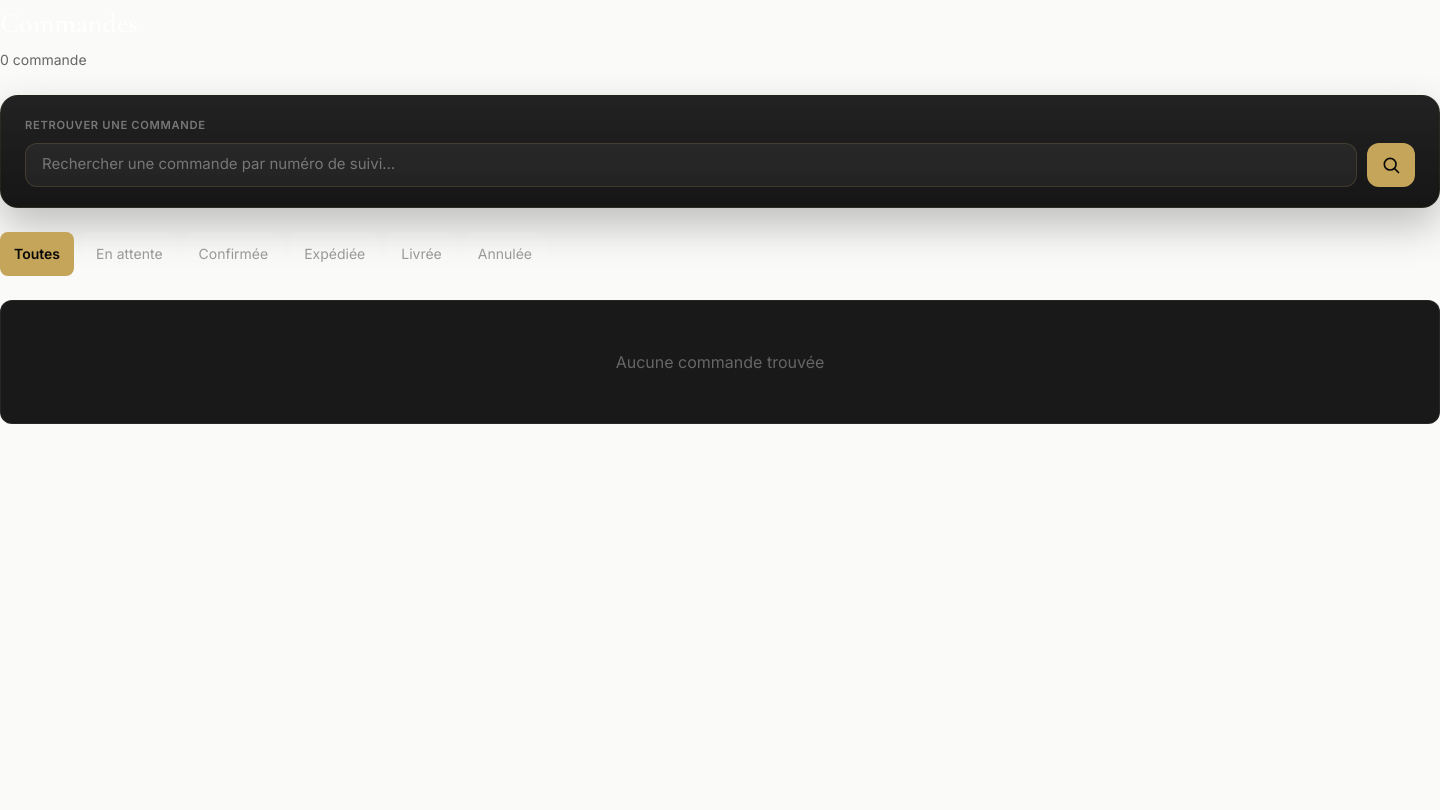
Test: Commandes — commande ouverte depuis la recherche (?ref=) › propose la recherche par numéro de suivi sur l'écran Commandes et ouvre la fiche avec « Voir la commande »
The image size is (1440, 810).
In the search field with placeholder "Rechercher une commande par numéro de suivi…": (691, 165) [25,143,1357,187], type "VIP-3F2A9C1B"
Then press Enter
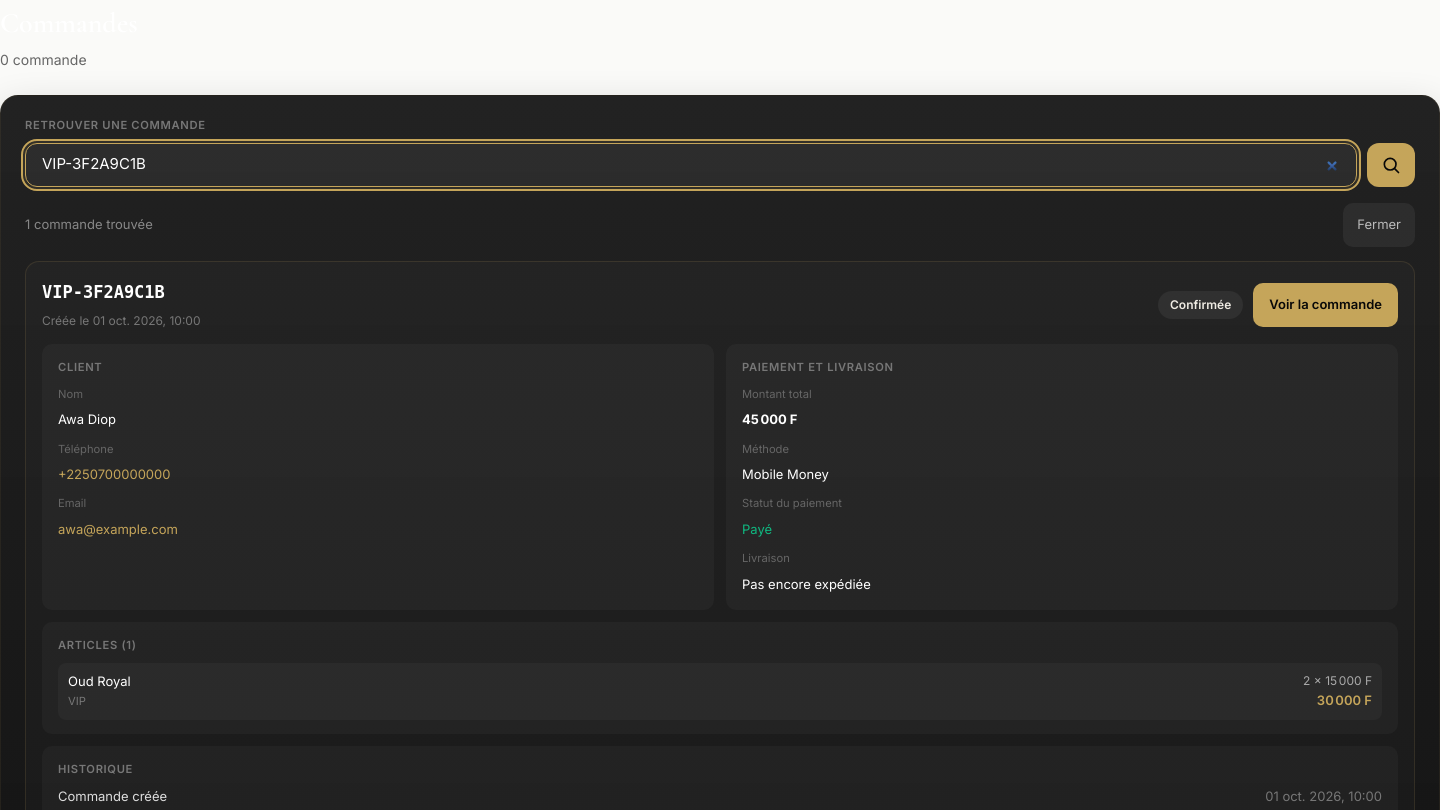
Click the button "Voir la commande": (1326, 305) [1253,283,1398,327]
(page scrolled)
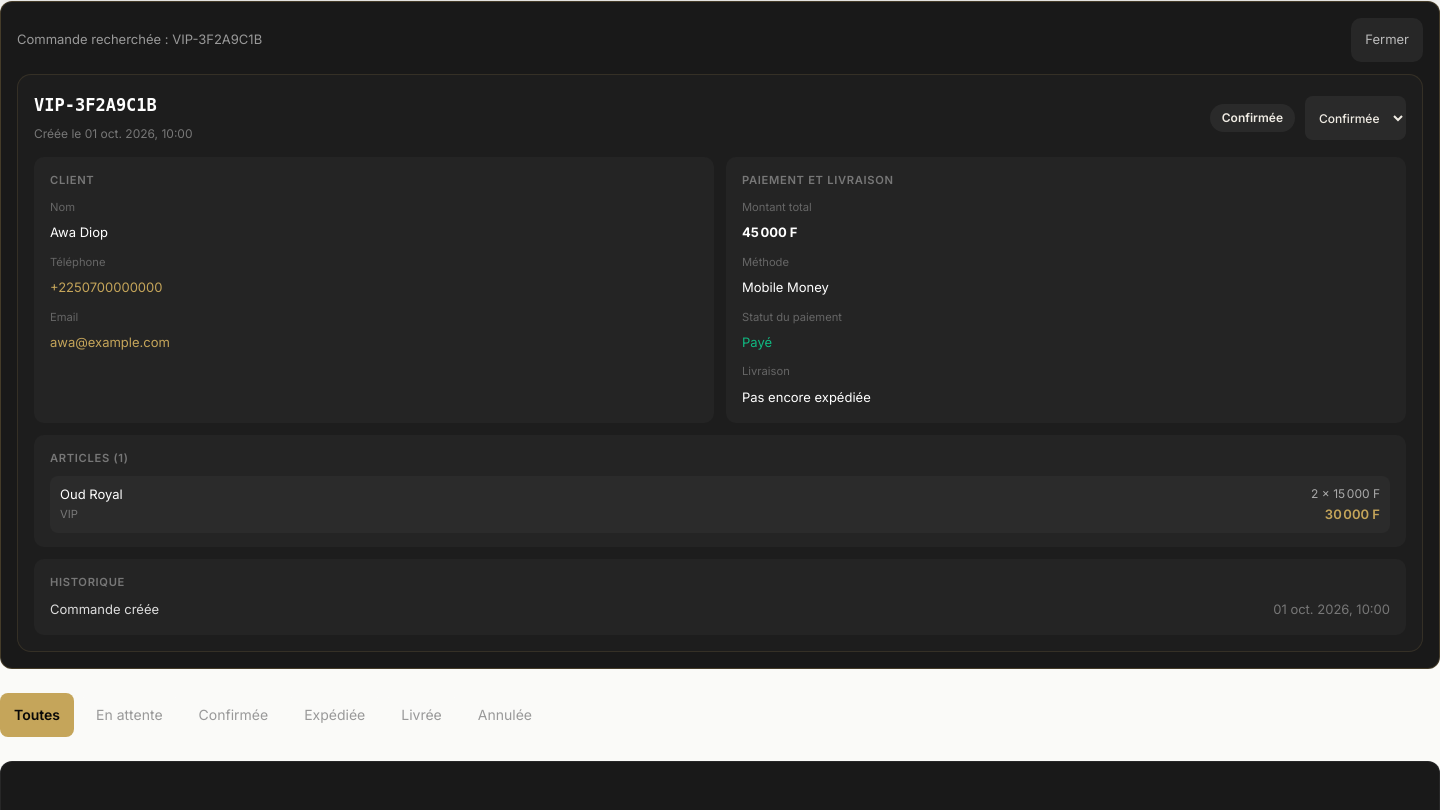
Now the element labelled "Commande recherchée" shows "Commande recherchée : VIP-3F2A9C1B"
Now the dropdown named "Statut de la commande VIP-3F2A9C1B" is shown, box [1305,96,1406,140]
